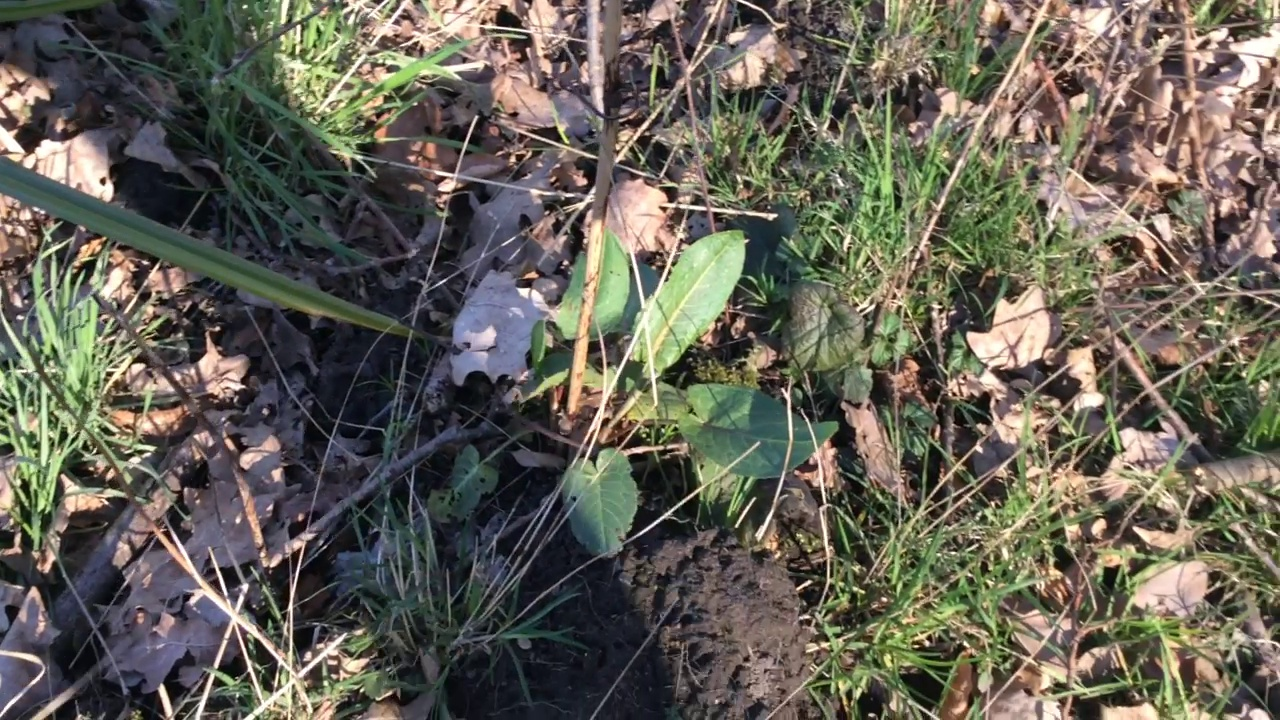rumex: (451, 229, 839, 559)
